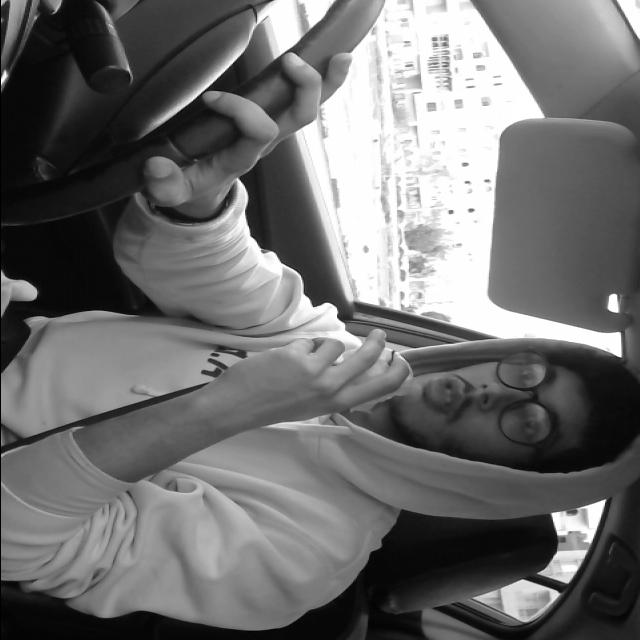eating: (324, 342, 420, 418)
